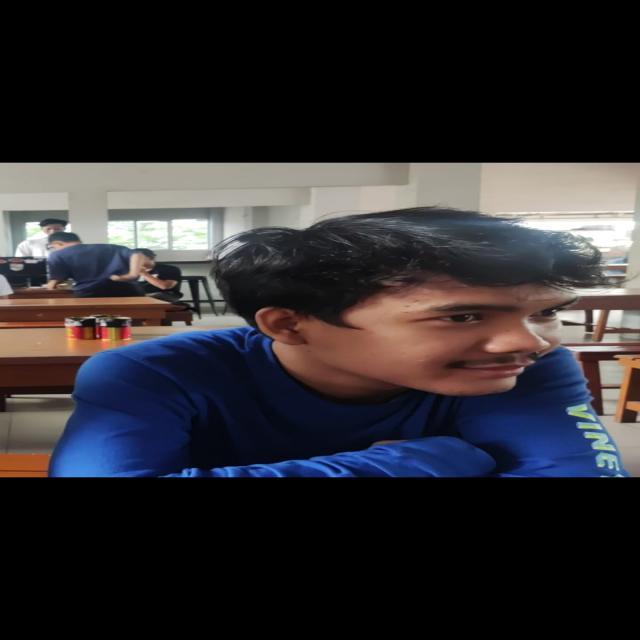sem_oculos: (338, 291, 580, 333)
